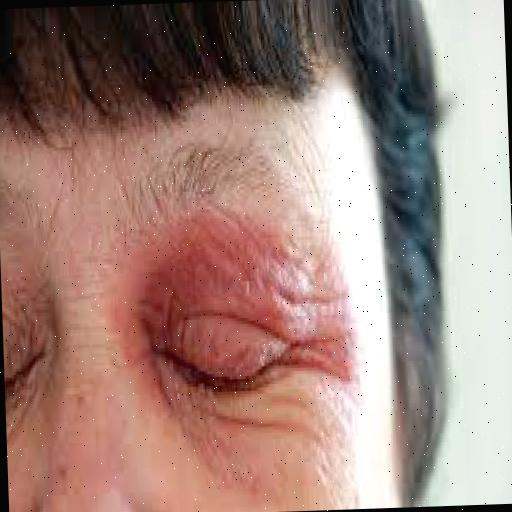Skin_Lesion: (123, 272, 183, 411), (239, 242, 277, 287), (72, 379, 84, 417), (50, 460, 68, 477)
